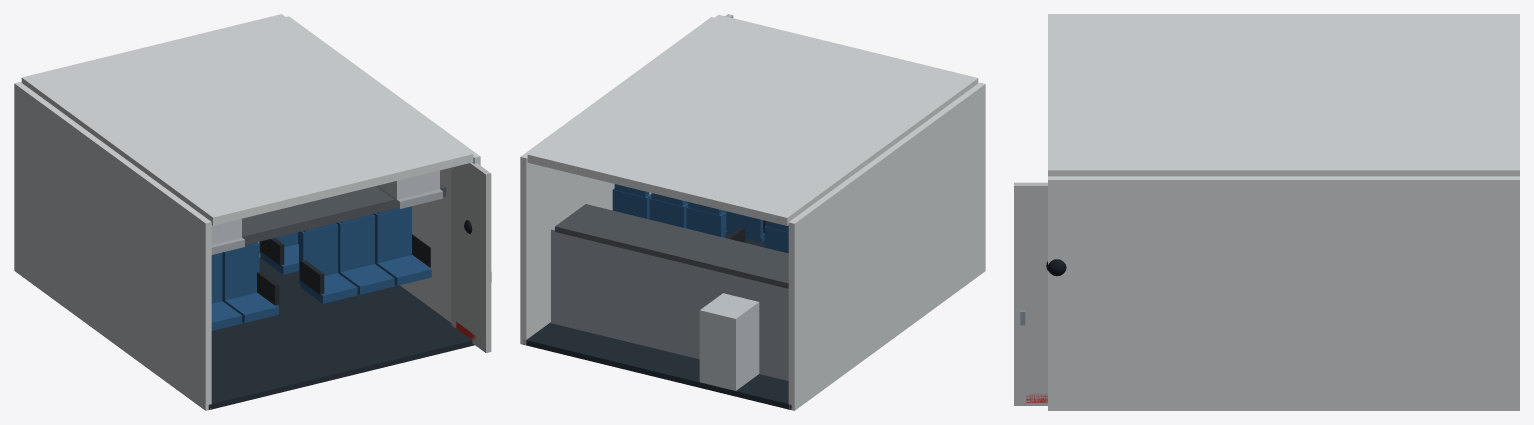
File: equipment--cabinInterior.glb
3 renders of one model, left to right at view 1: azimuth 30°, elevation 25°; view 2: azimuth 150°, elevation 25°; view 3: azimuth 270°, elevation 25°, orthographic. The views are drawn at different scales.
Visible parts, largest first — view 1: cabinInterior:shell, door, oxygenPanel, overheadBinR, overheadBinL; view 2: cabinInterior:shell, galley, galleyCart; view 3: cabinInterior:shell, door.
Part boxes in pixels (x1=…): cabinInterior:shell: x1=14, y1=14, x2=480, y2=410; door: x1=451, y1=162, x2=491, y2=352; oxygenPanel: x1=242, y1=183, x2=446, y2=244; overheadBinR: x1=376, y1=170, x2=442, y2=208; overheadBinL: x1=211, y1=218, x2=244, y2=254; cabinInterior:shell: x1=520, y1=15, x2=985, y2=410; galley: x1=551, y1=204, x2=788, y2=380; galleyCart: x1=699, y1=293, x2=759, y2=390; cabinInterior:shell: x1=1048, y1=14, x2=1519, y2=410; door: x1=1014, y1=182, x2=1066, y2=405.
Size of the model in its own units: 3.24 by 2.13 by 4.12.
